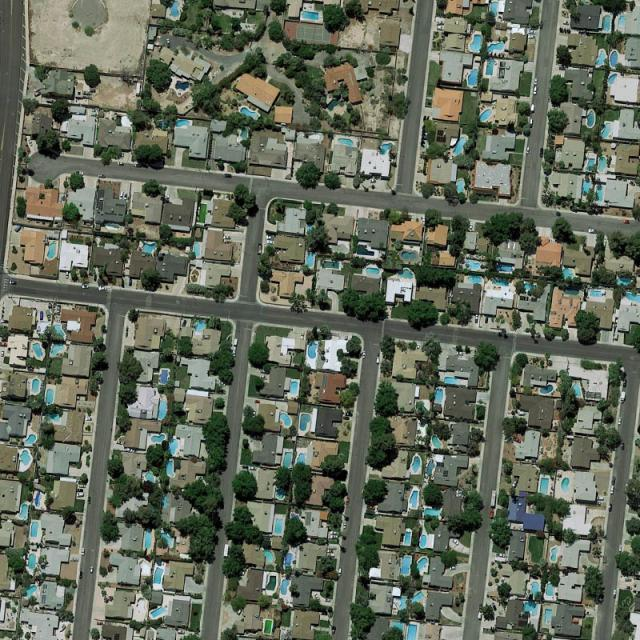vehicle: (142, 242, 157, 254), (46, 242, 56, 258), (193, 242, 200, 257), (223, 543, 230, 557), (490, 490, 496, 506), (14, 225, 22, 233), (314, 594, 321, 602), (34, 90, 41, 98), (496, 553, 506, 558), (452, 539, 459, 546), (621, 391, 625, 403), (118, 190, 123, 199), (76, 170, 85, 175), (260, 374, 267, 380), (367, 505, 375, 510), (328, 534, 338, 538), (324, 598, 332, 603), (76, 492, 84, 497), (98, 286, 106, 291), (539, 148, 543, 158), (530, 103, 535, 111), (437, 25, 445, 30), (331, 626, 336, 634), (1, 341, 8, 346), (490, 510, 494, 518), (613, 590, 617, 598), (596, 496, 604, 500), (610, 486, 614, 494), (611, 477, 615, 485), (362, 350, 366, 358), (330, 531, 338, 535), (338, 568, 342, 576), (224, 174, 232, 178), (98, 174, 106, 178), (533, 86, 537, 94), (534, 77, 538, 85), (82, 284, 88, 289), (266, 240, 273, 244), (250, 466, 257, 470), (254, 400, 261, 404), (300, 332, 304, 339), (90, 566, 94, 573), (87, 497, 91, 504), (79, 484, 86, 488), (115, 441, 122, 445), (526, 147, 530, 154), (1, 350, 5, 357), (478, 605, 482, 612), (449, 566, 455, 570), (618, 418, 622, 424), (620, 442, 623, 450), (266, 235, 272, 239), (346, 498, 349, 506), (343, 522, 347, 528), (9, 281, 15, 285), (46, 99, 54, 102), (619, 545, 622, 552), (241, 466, 248, 469), (76, 489, 83, 492), (124, 192, 127, 199), (530, 119, 533, 126), (118, 162, 123, 166), (438, 20, 443, 24), (456, 352, 462, 355), (376, 357, 379, 363), (417, 344, 420, 350), (475, 314, 478, 320), (66, 272, 69, 278), (166, 194, 169, 200), (82, 547, 84, 555), (86, 418, 91, 420)
